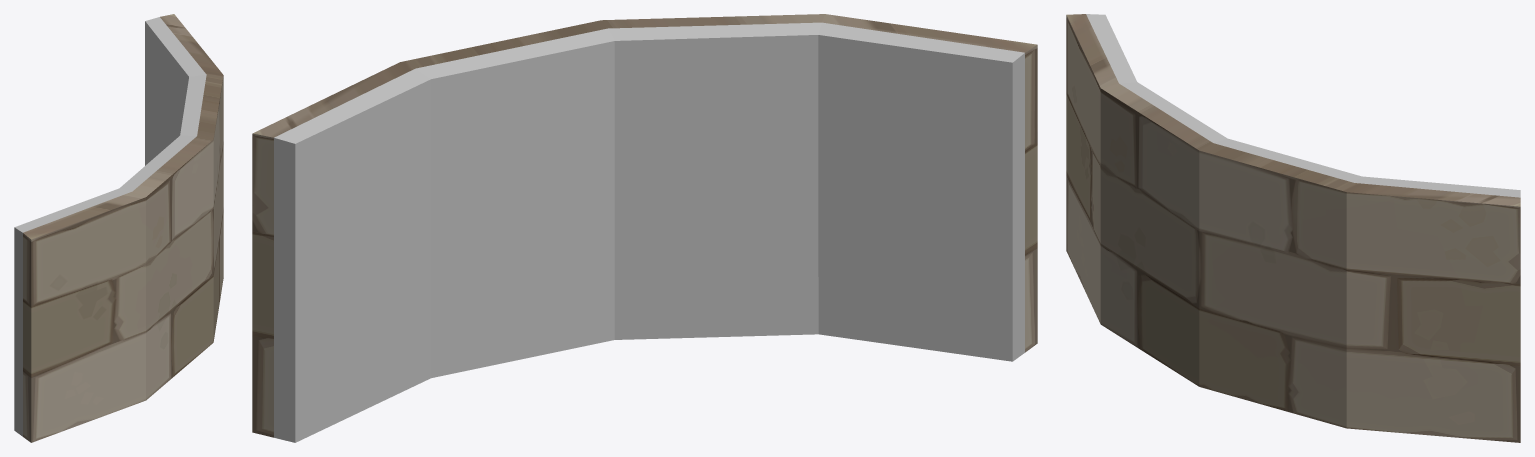
Rendered from SM_Bld_Wall_Curved_Half_01.fbx.
The picture shows the model from 3 angles, left to right: view 1: azimuth 30°, elevation 25°; view 2: azimuth 150°, elevation 25°; view 3: azimuth 270°, elevation 25°; orthographic projection. The views are drawn at different scales.
Parts seen in each view (by area): view 1: SM_Bld_Wall_Curved_Half_01; view 2: SM_Bld_Wall_Curved_Half_01; view 3: SM_Bld_Wall_Curved_Half_01.
Boxes of the visible parts, left/top/right/bottom form: SM_Bld_Wall_Curved_Half_01: left=14, top=14, right=223, bottom=442; SM_Bld_Wall_Curved_Half_01: left=252, top=14, right=1037, bottom=442; SM_Bld_Wall_Curved_Half_01: left=1066, top=14, right=1520, bottom=442.
Bounding box in the file's own units: 261 × 151 × 261.
